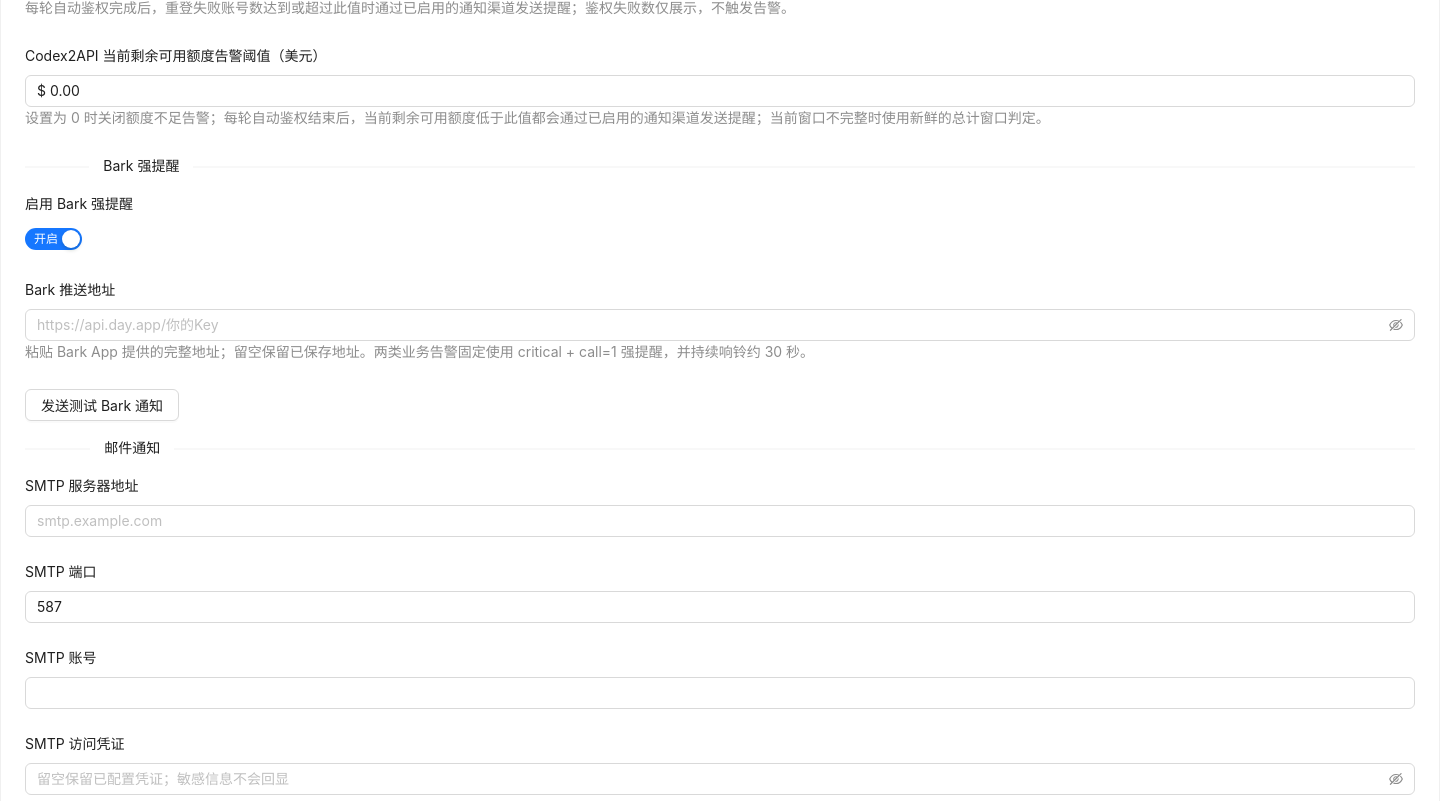
Scenario: ChatGPTAutoReloginSection › shows a Bark test failure and allows another attempt
The image size is (1440, 801).
(page scrolled)
Click the button "发送测试 Bark 通知" at (102, 405), box x1=25 y1=389 x2=179 y2=421
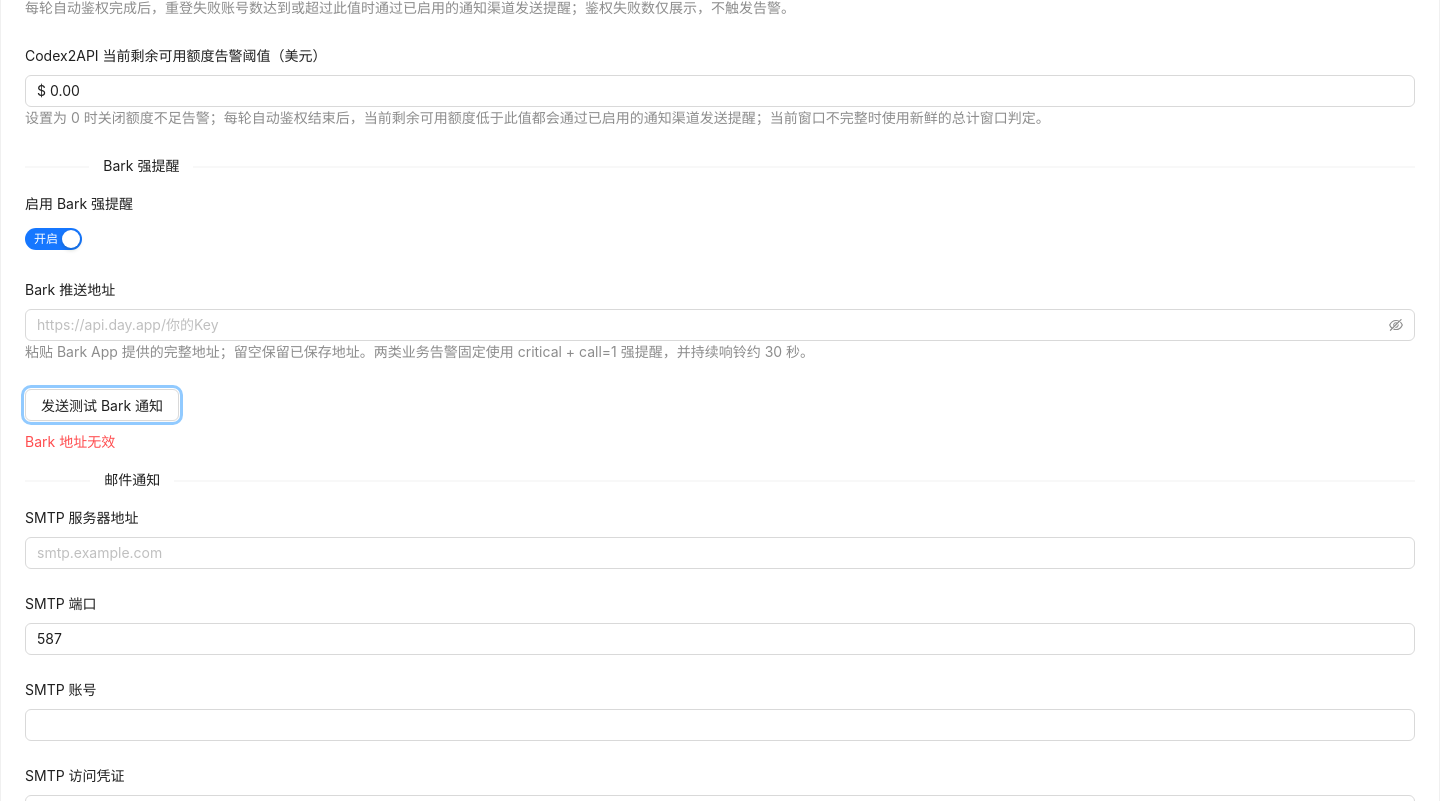
expect the message reads "Bark 地址无效": met, box x1=25 y1=433 x2=115 y2=450
Click the button "发送测试 Bark 通知" at (102, 405), box x1=25 y1=389 x2=179 y2=421
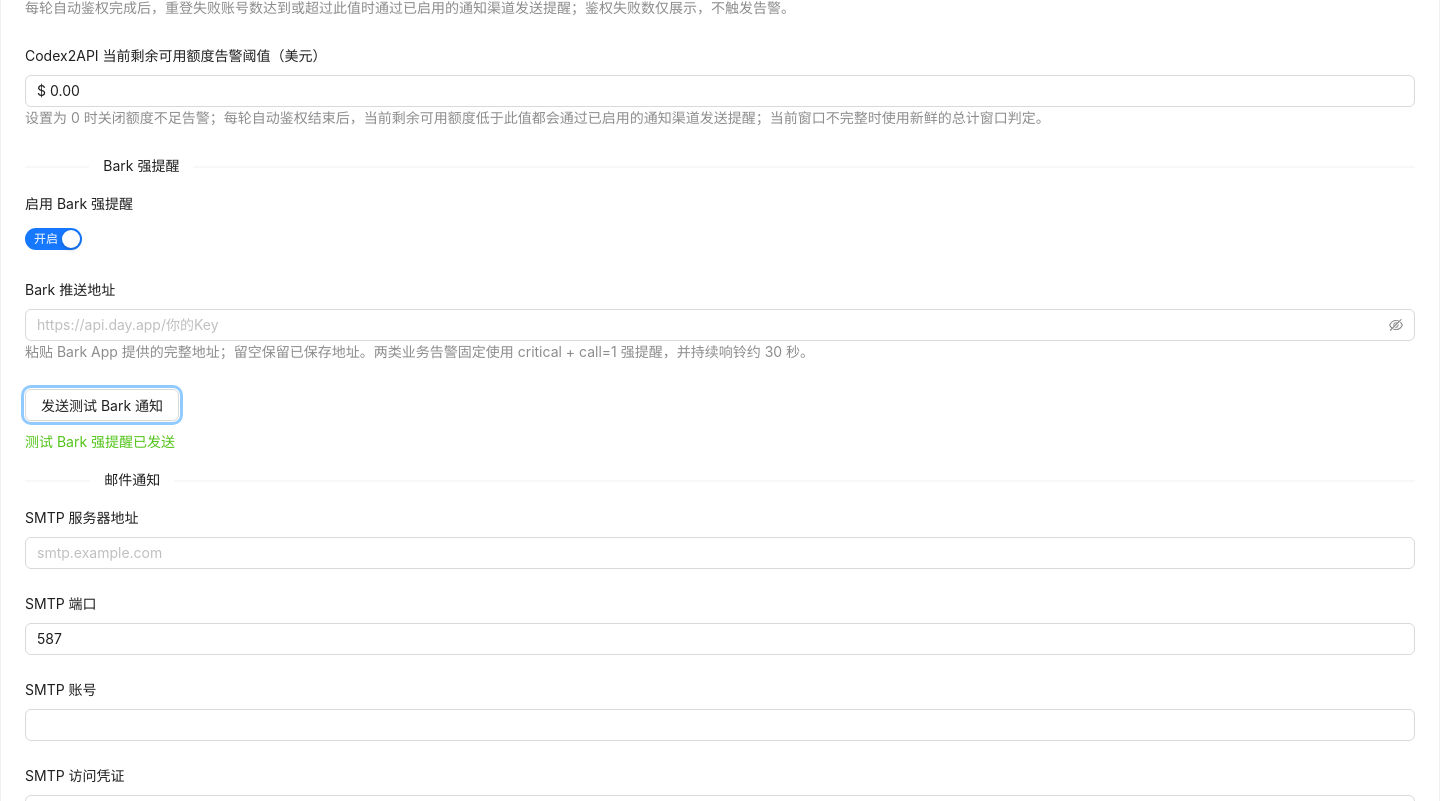
expect the text "测试 Bark 强提醒已发送" is shown: met, box x1=25 y1=433 x2=175 y2=450
